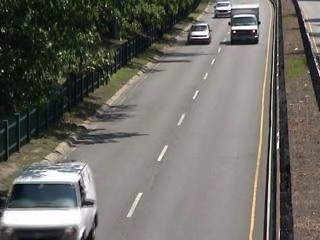car: (186, 23, 213, 46), (213, 2, 233, 20)
truck: (1, 161, 101, 240), (228, 4, 262, 46)
